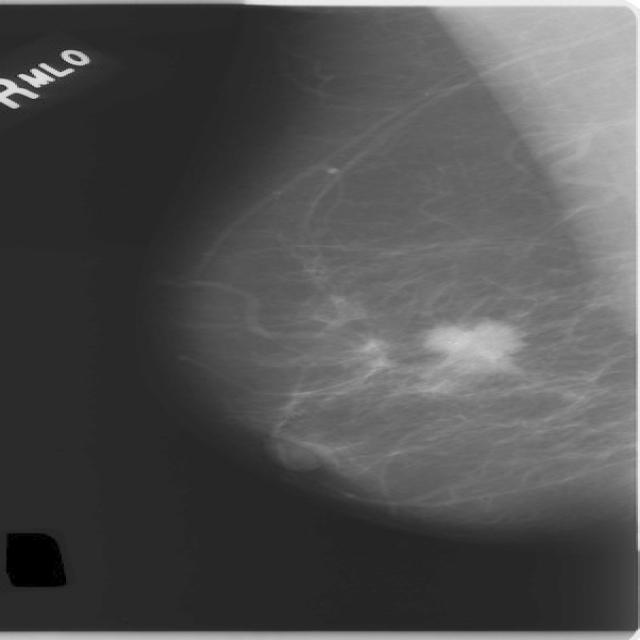tumour: (419, 317, 523, 370)
